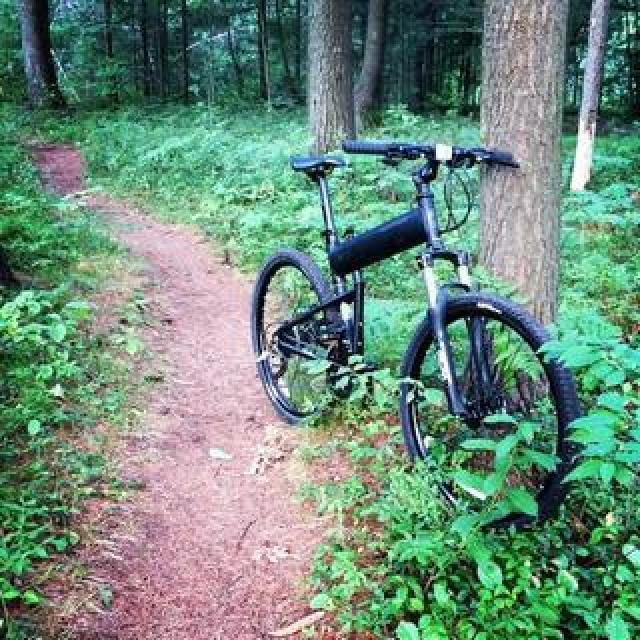Person: (246, 140, 578, 508)
